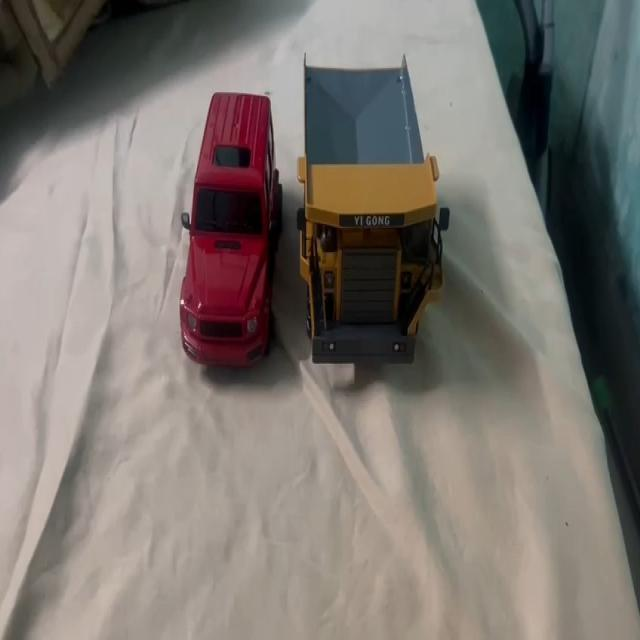dump_truck: (296, 52, 445, 363)
light_vehicle: (173, 81, 280, 358)
